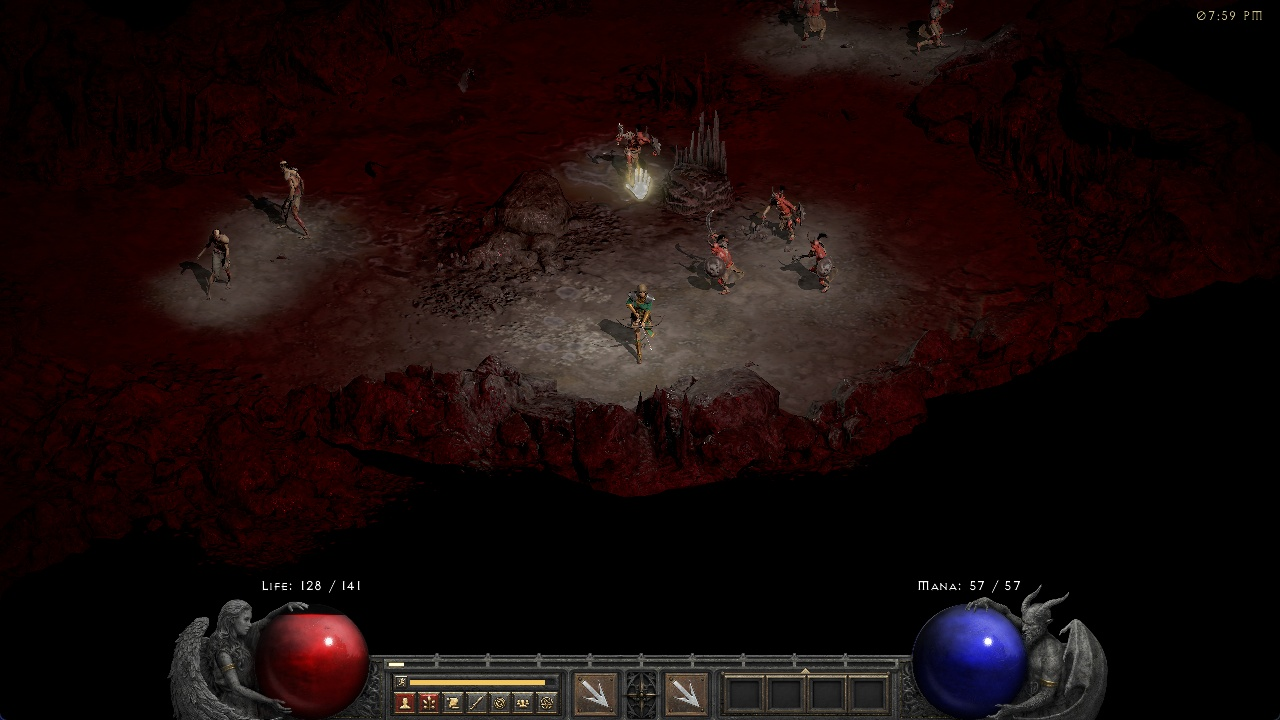fallen: (700, 215, 742, 297), (611, 125, 673, 176), (755, 187, 810, 236), (795, 236, 842, 291), (913, 1, 952, 47), (805, 1, 831, 39)
